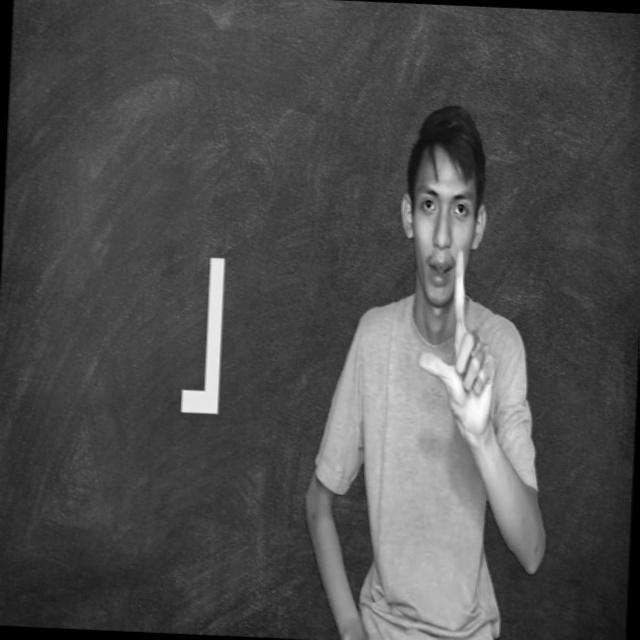L: (409, 238, 530, 428)
